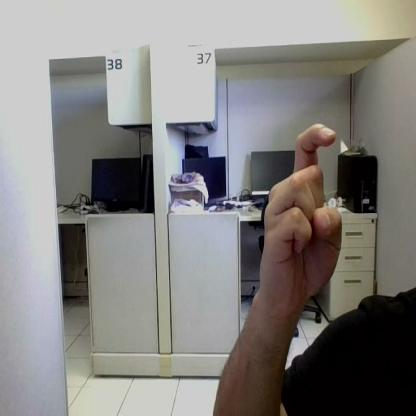X: (260, 125, 342, 308)
